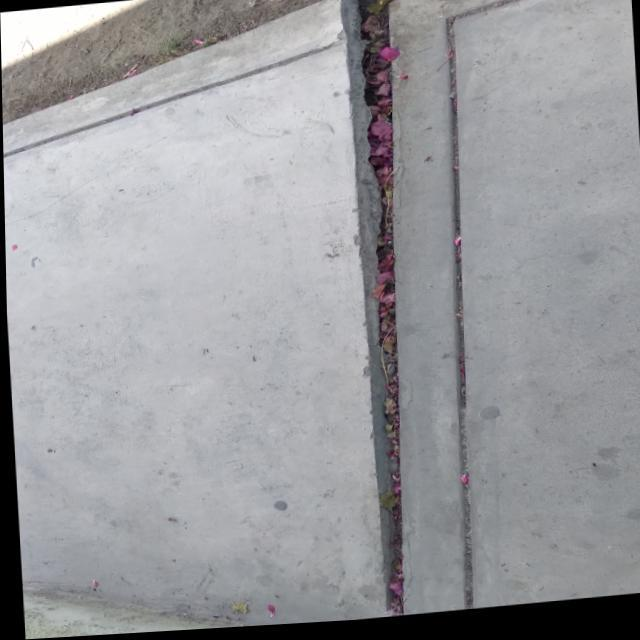hole: (326, 0, 426, 624)
